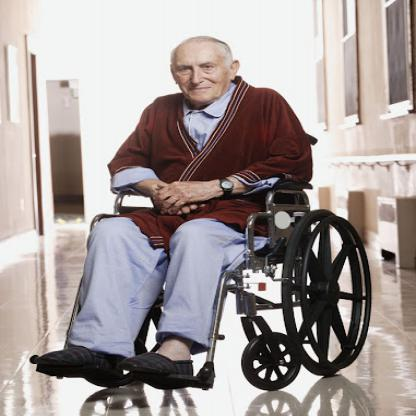wheelchair: (51, 34, 372, 400)
